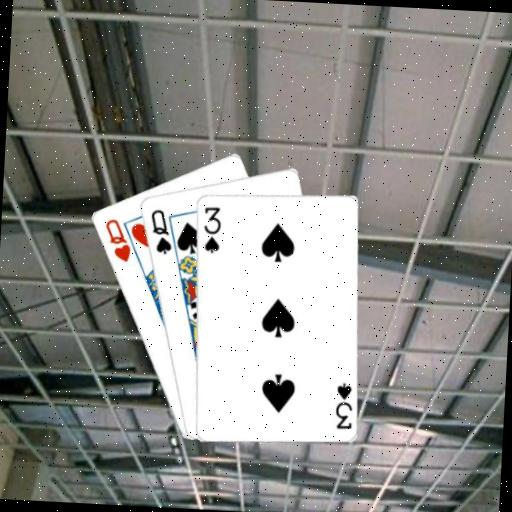3S: (199, 203, 224, 255), (331, 379, 355, 431)
QH: (100, 215, 134, 264)
QS: (145, 206, 175, 257)
